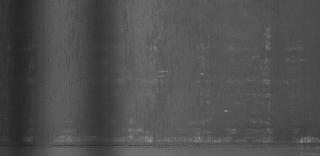welding line: (4, 142, 320, 152)
